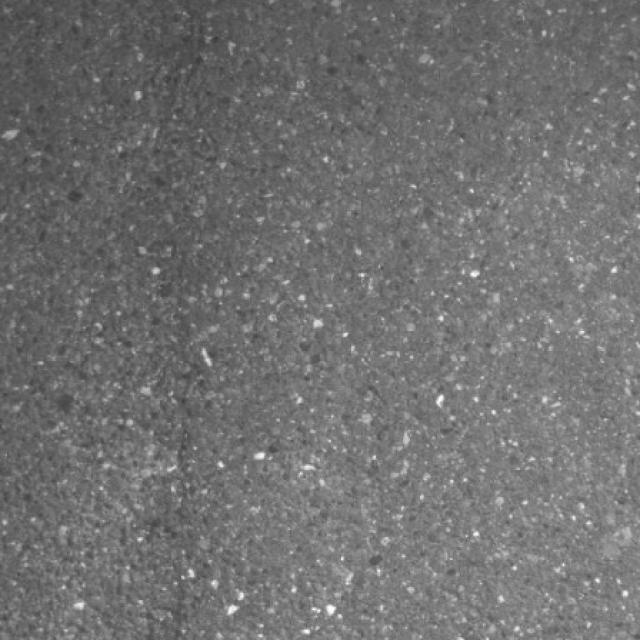Vertical Crack: (170, 239, 202, 636)
